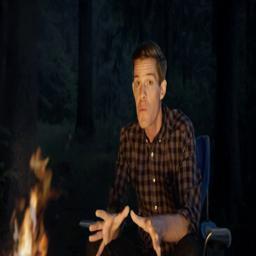fire: (11, 149, 54, 256)
